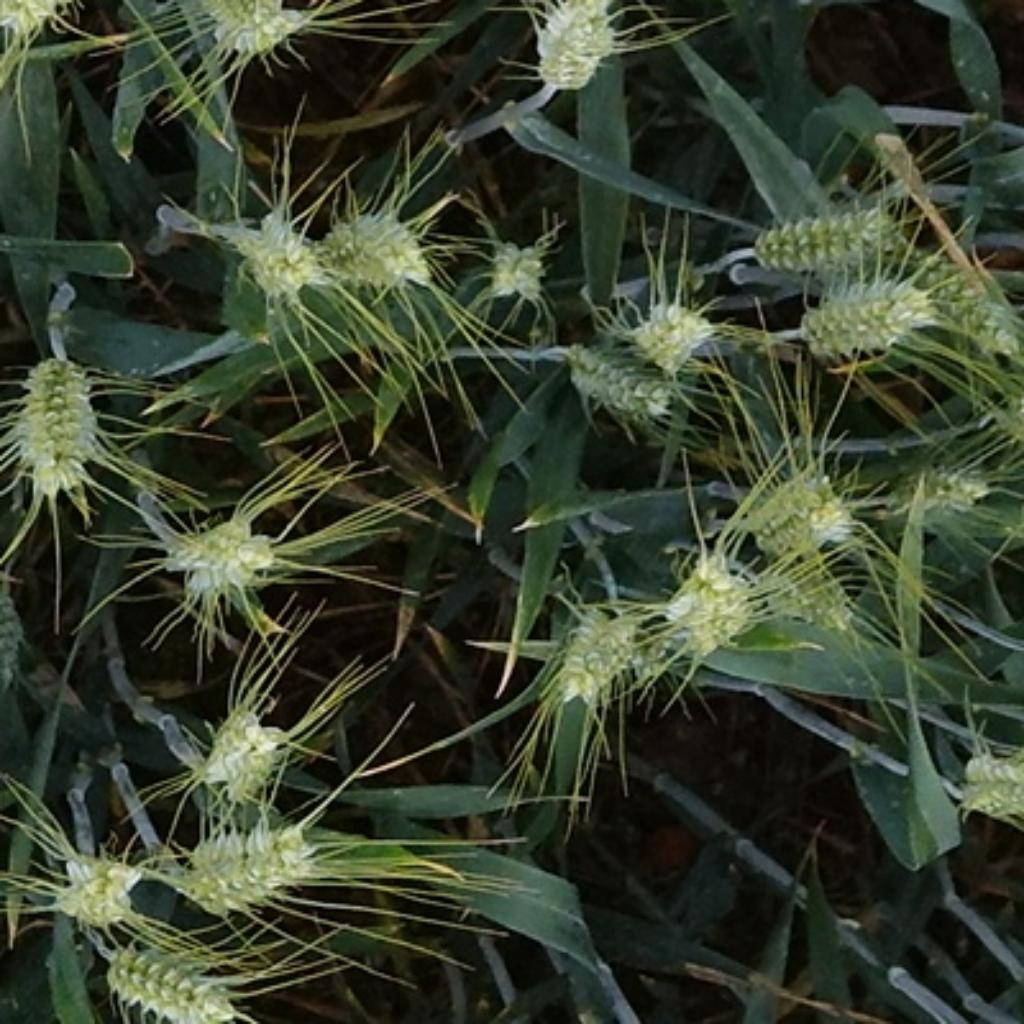0-0: (2, 337, 117, 511), (168, 806, 325, 911), (746, 192, 907, 287), (94, 926, 248, 1021), (540, 588, 660, 706), (157, 505, 290, 610), (793, 261, 934, 355), (911, 240, 1016, 358), (724, 453, 849, 552), (221, 203, 334, 311), (655, 537, 760, 652), (313, 206, 433, 303), (186, 691, 291, 798), (522, 0, 626, 105), (878, 445, 998, 533), (562, 335, 674, 427), (51, 844, 156, 936), (750, 545, 857, 627), (622, 286, 716, 368), (189, 0, 309, 58), (947, 745, 1024, 827), (480, 233, 554, 307), (0, 576, 33, 683), (0, 0, 74, 33)
